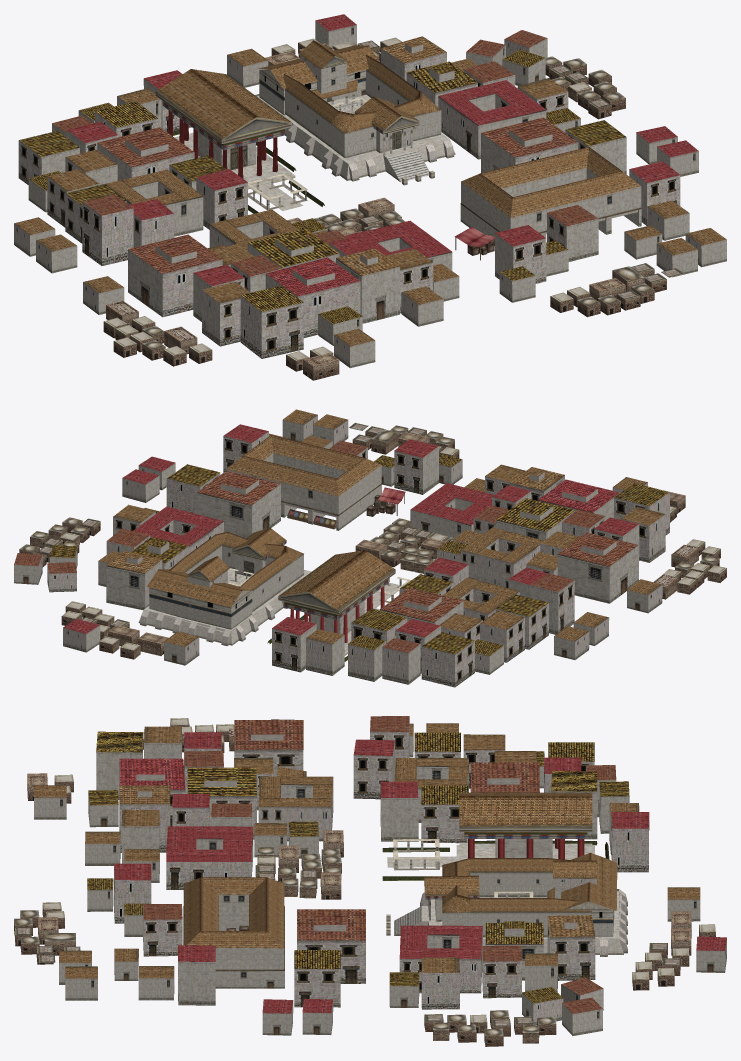
File: settlement_seleucid_greek_buildings.dae
3 renders of one model, top to bottom at view 1: azimuth 30°, elevation 25°; view 2: azimuth 150°, elevation 25°; view 3: azimuth 270°, elevation 25°, orthographic. The views are drawn at different scales.
Parts seen in each view (by area): view 1: Mesh1_Temple__; view 2: Mesh1_Temple__; view 3: Mesh1_Temple__.
Boxes of the visible parts, bbox=[...] form: Mesh1_Temple__: bbox=[14, 14, 726, 380]; Mesh1_Temple__: bbox=[14, 409, 726, 687]; Mesh1_Temple__: bbox=[14, 716, 726, 1046].
Bounding box in the file's own units: 50.87 × 5.27 × 48.18.
